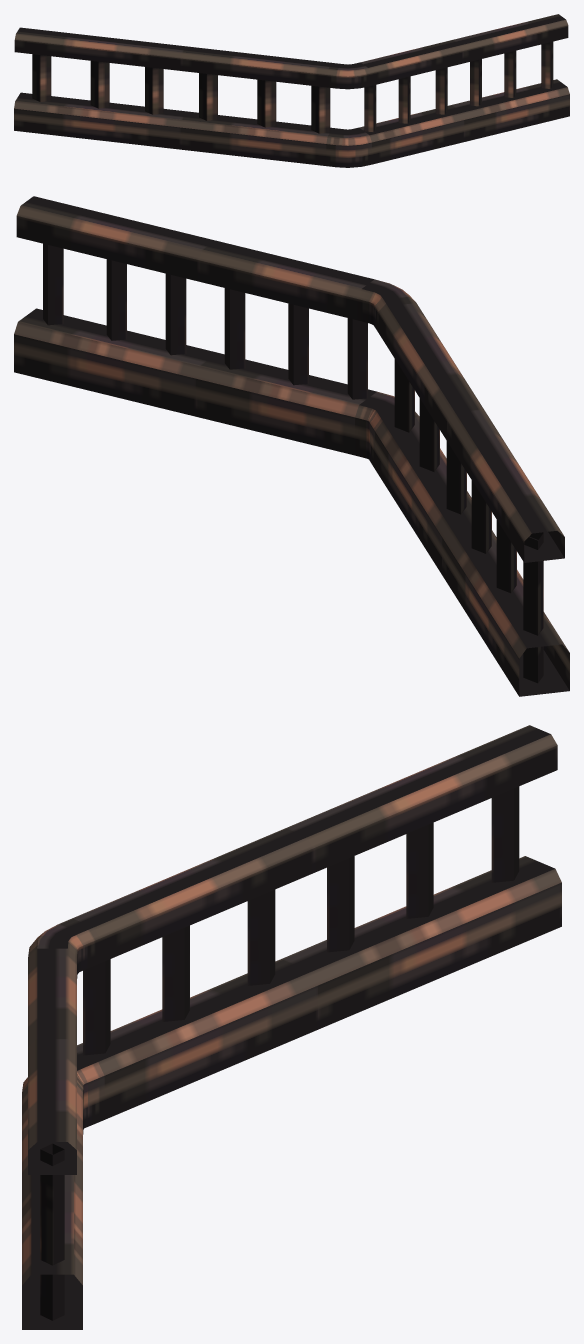
File: EnvBdgMD_Factory_B_Fenece_A_CoOut_RFS.FBX
3 renders of one model, top to bottom at view 1: azimuth 30°, elevation 25°; view 2: azimuth 150°, elevation 25°; view 3: azimuth 270°, elevation 25°, orthographic. The views are drawn at different scales.
Visible parts, largest first — view 1: EnvBdgMD_Factory_B_Fenece_A_CoOut_RFS; view 2: EnvBdgMD_Factory_B_Fenece_A_CoOut_RFS; view 3: EnvBdgMD_Factory_B_Fenece_A_CoOut_RFS.
Boxes of the visible parts, x1=… form: EnvBdgMD_Factory_B_Fenece_A_CoOut_RFS: x1=14, y1=14, x2=569, y2=167; EnvBdgMD_Factory_B_Fenece_A_CoOut_RFS: x1=14, y1=196, x2=569, y2=696; EnvBdgMD_Factory_B_Fenece_A_CoOut_RFS: x1=22, y1=725, x2=561, y2=1329.
Size of the model in its own units: 409 by 85 by 221.
